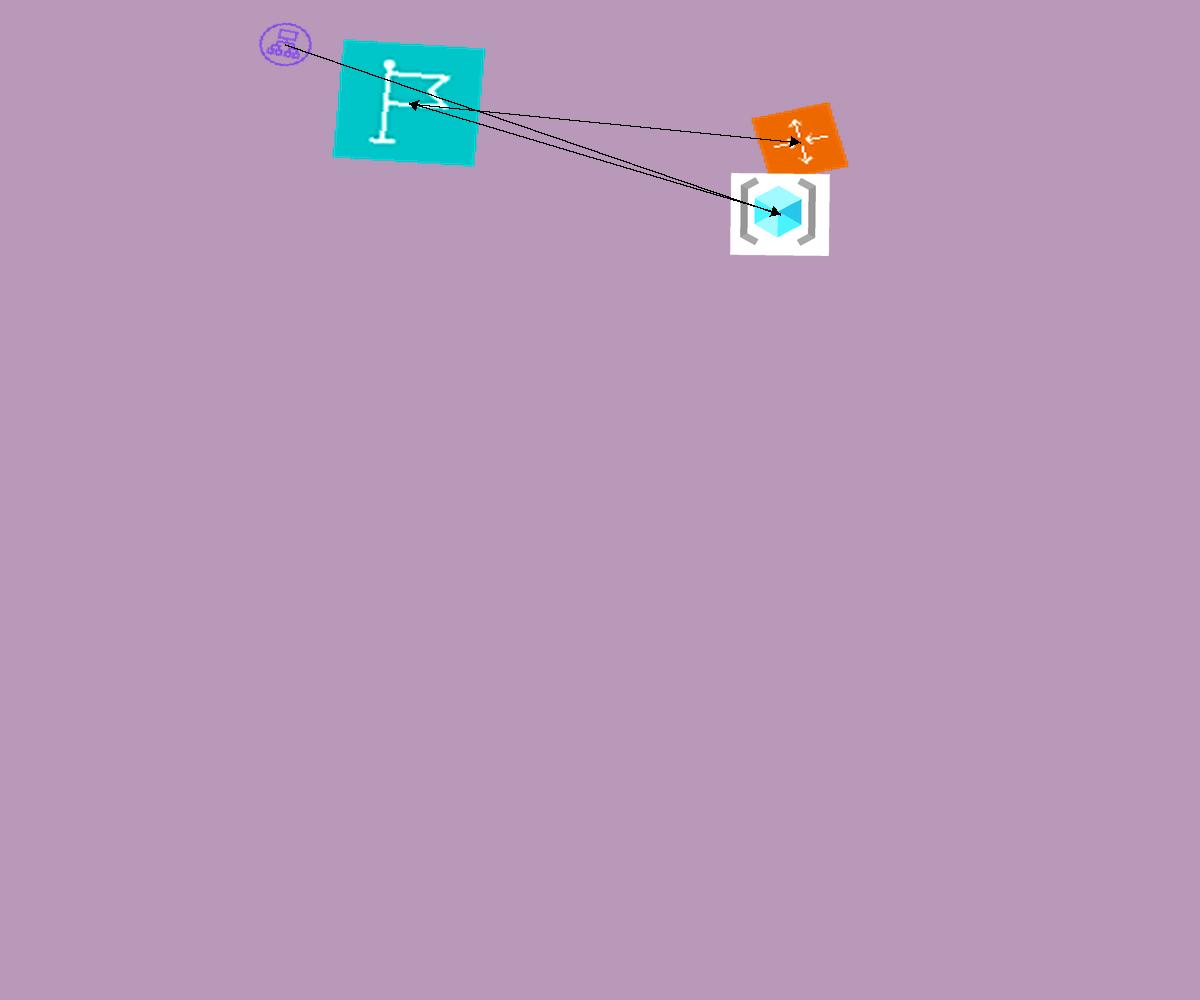AWS-Region: (331, 38, 487, 168)
AWS-Res_Elastic-Load-Balancing_Application-Load-Balancer: (251, 16, 320, 73)
AWS-Scaling-group: (750, 101, 850, 184)
Azure_resource_group: (730, 173, 830, 256)
